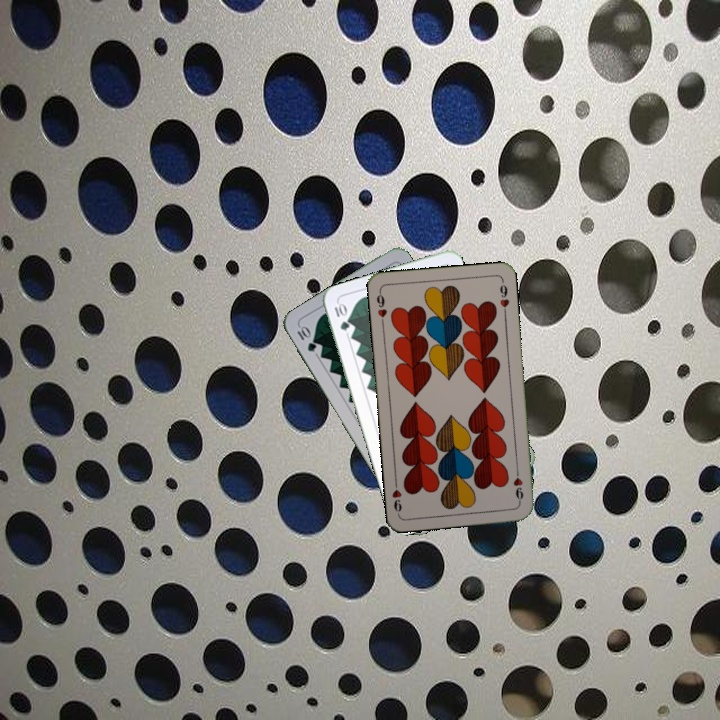G10: (293, 322, 319, 354), (330, 299, 352, 333)
H9: (372, 287, 389, 328), (509, 465, 526, 506)
